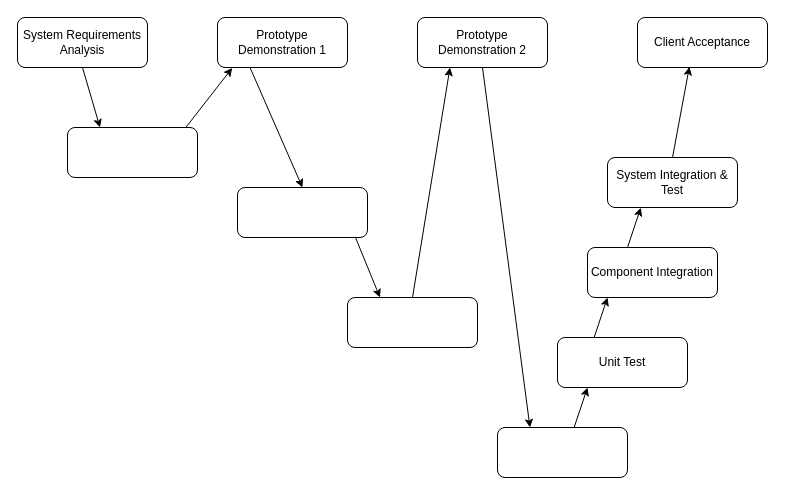
Image size: 785x495. Some labels were removed from this diagram. Each missing label, with the box of its shape:
Detailed Design: (346, 296, 478, 348)
Implementation: (496, 426, 628, 478)
Preliminary Design: (236, 186, 368, 238)
Requirements Analysis: (66, 126, 198, 178)
